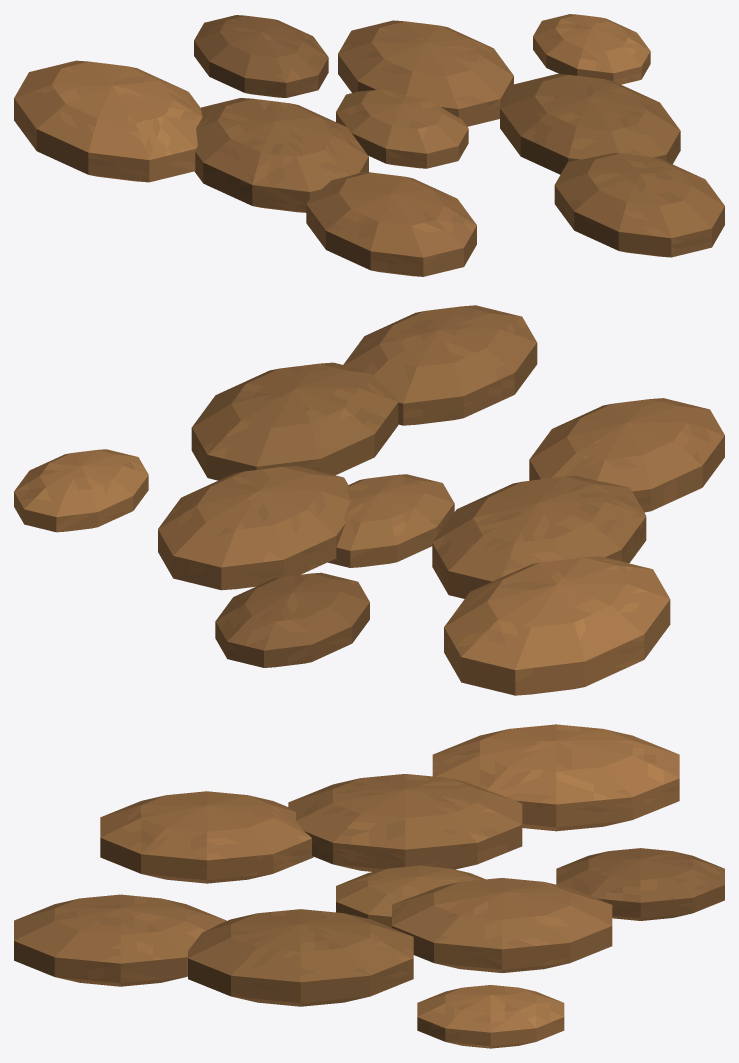
The model's file is seed_broccoli.glb.
The picture shows the model from 3 angles, top to bottom: view 1: azimuth 30°, elevation 25°; view 2: azimuth 150°, elevation 25°; view 3: azimuth 270°, elevation 25°; orthographic projection. The views are drawn at different scales.
Visible parts, largest first — view 1: block_grain 7, block_grain 2, block_grain 8, block_grain 5, block_grain 3, block_grain 1, block_grain 4, block_grain 0, block_grain 6; view 2: block_grain 7, block_grain 1, block_grain 3, block_grain 2, block_grain 8, block_grain 5, block_grain 4, block_grain 6, block_grain 0; view 3: block_grain 7, block_grain 2, block_grain 3, block_grain 1, block_grain 5, block_grain 8, block_grain 4, block_grain 6, block_grain 0.
Boxes of the visible parts, x1,y1,x2,y2 form: block_grain 7: (14,60,202,182); block_grain 2: (194,98,368,212); block_grain 8: (554,153,724,257); block_grain 5: (306,172,476,276); block_grain 3: (500,74,680,174); block_grain 1: (338,20,513,126); block_grain 4: (194,15,328,97); block_grain 0: (336,88,468,168); block_grain 6: (533,14,650,84); block_grain 7: (444,556,670,695); block_grain 1: (158,466,350,590); block_grain 3: (191,362,398,480); block_grain 2: (432,475,646,598); block_grain 8: (343,305,537,425); block_grain 5: (529,398,724,512); block_grain 4: (215,572,369,667); block_grain 6: (14,449,148,532); block_grain 0: (328,474,454,567); block_grain 7: (432,724,679,831); block_grain 2: (288,774,522,871); block_grain 3: (188,909,413,1006); block_grain 1: (392,878,612,972); block_grain 5: (100,791,313,883); block_grain 8: (14,894,226,986); block_grain 4: (556,848,724,920); block_grain 6: (417,985,564,1048); block_grain 0: (336,865,485,927).
Size of the model in its own units: 0.0209 by 0.00253 by 0.022.
1 material, 1 textured.
